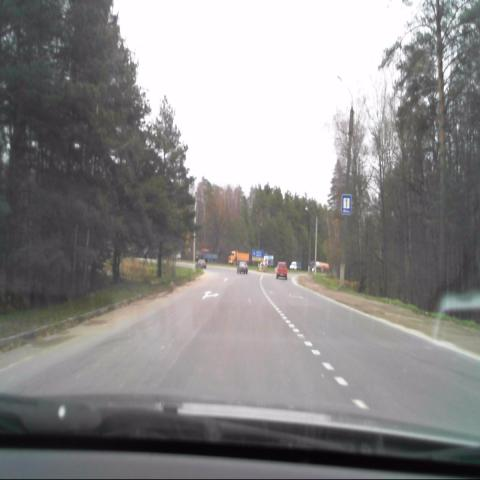7_4: (340, 193, 352, 216)
